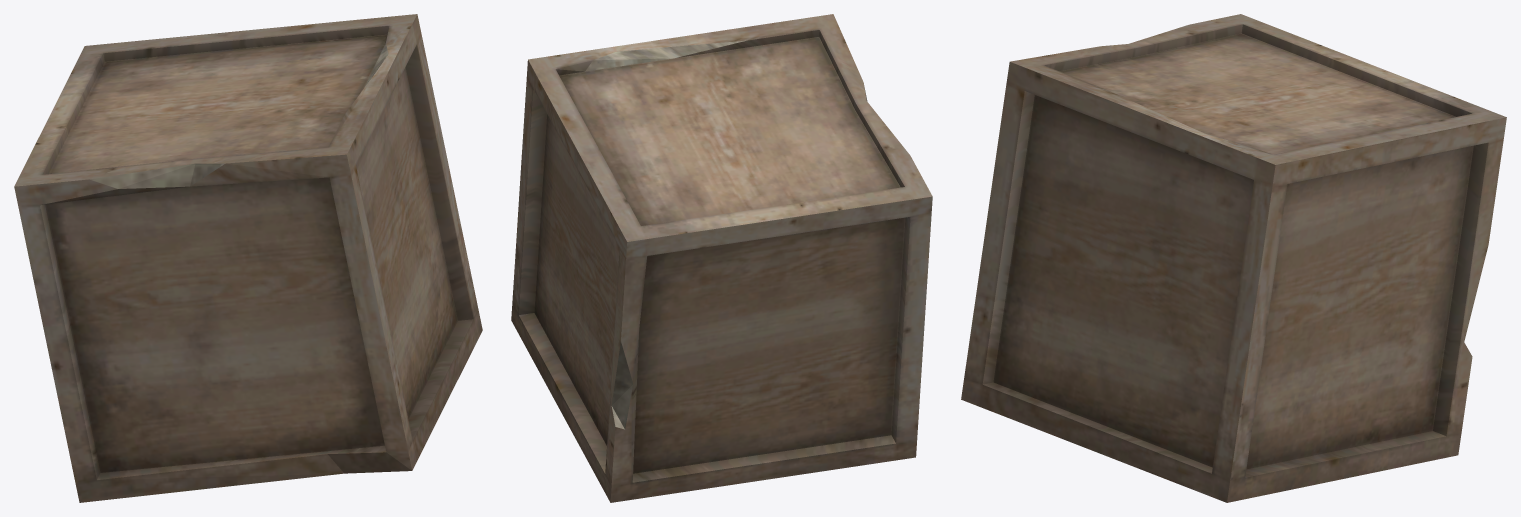
The model's file is ItemSpot.fbx.
The picture shows the model from 3 angles, left to right: view 1: azimuth 30°, elevation 25°; view 2: azimuth 150°, elevation 25°; view 3: azimuth 270°, elevation 25°; orthographic projection. The views are drawn at different scales.
Visible parts, largest first — view 1: ItemBox_Box_01; view 2: ItemBox_Box_01; view 3: ItemBox_Box_01.
Part boxes in pixels (x1,y1,x2,y2): ItemBox_Box_01: (14,14,482,502); ItemBox_Box_01: (511,14,932,502); ItemBox_Box_01: (961,14,1506,502).
Size of the model in its own units: 1.21 by 0.9303 by 1.2.
Materials: 1 (1 with a texture image).
